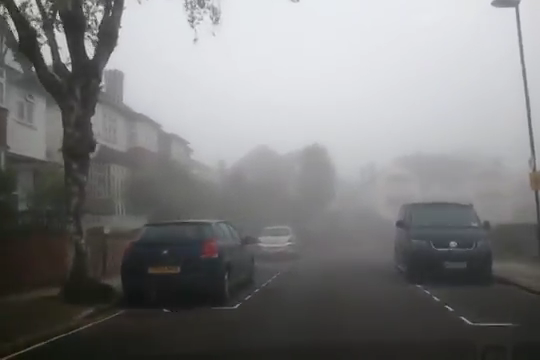car: (121, 217, 258, 304), (391, 201, 493, 283), (254, 225, 303, 258)
